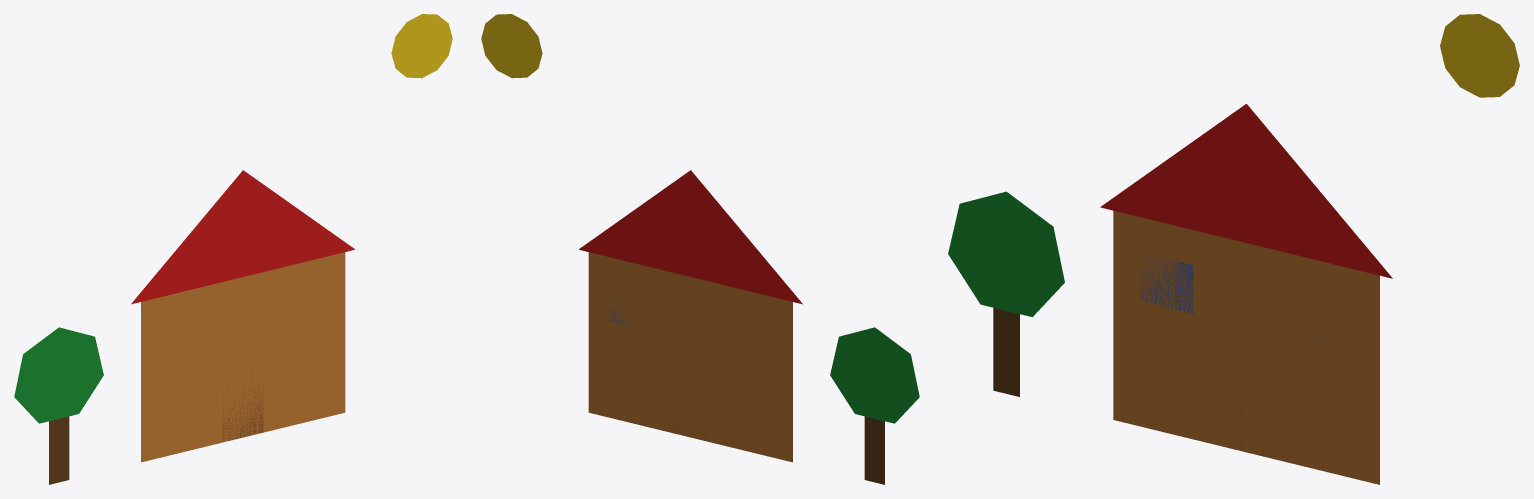
Rendered from casa.obj.
The picture shows the model from 3 angles, left to right: view 1: azimuth 30°, elevation 25°; view 2: azimuth 150°, elevation 25°; view 3: azimuth 330°, elevation 25°; orthographic projection. The views are drawn at different scales.
Parts seen in each view (by area): view 1: parede, telhado, arvore_copa, sol, arvore_tronco, porta; view 2: parede, telhado, arvore_copa, sol, arvore_tronco; view 3: parede, telhado, arvore_copa, sol, arvore_tronco, janela_esq.
Part boxes in pixels (x1=…): parede: x1=141, y1=252, x2=345, y2=462; telhado: x1=131, y1=170, x2=354, y2=304; arvore_copa: x1=14, y1=327, x2=103, y2=423; sol: x1=391, y1=14, x2=452, y2=78; arvore_tronco: x1=49, y1=416, x2=69, y2=484; porta: x1=222, y1=370, x2=263, y2=441; parede: x1=588, y1=252, x2=792, y2=462; telhado: x1=579, y1=170, x2=802, y2=304; arvore_copa: x1=830, y1=327, x2=919, y2=423; sol: x1=481, y1=14, x2=542, y2=78; arvore_tronco: x1=864, y1=416, x2=884, y2=484; parede: x1=1113, y1=210, x2=1379, y2=484; telhado: x1=1100, y1=104, x2=1392, y2=278; arvore_copa: x1=948, y1=191, x2=1064, y2=317; sol: x1=1440, y1=14, x2=1519, y2=97; arvore_tronco: x1=993, y1=307, x2=1019, y2=396; janela_esq: x1=1140, y1=254, x2=1193, y2=313.
Bounding box in the file's own units: 858 × 710 × 0.
